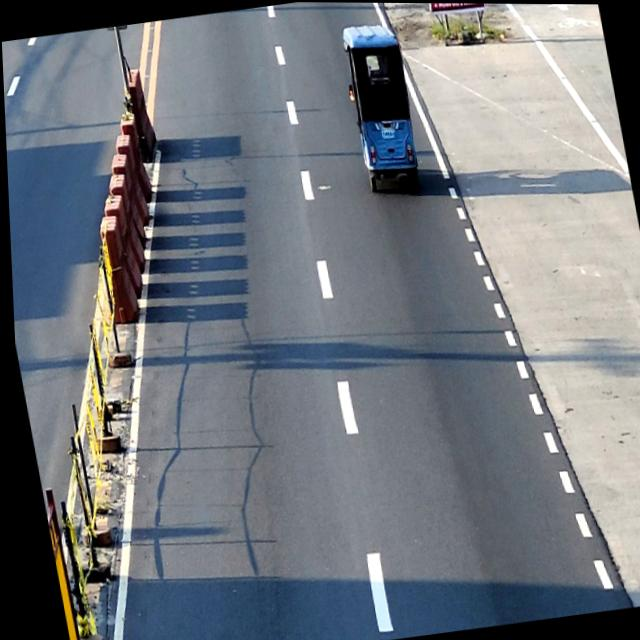E-bike: (336, 18, 426, 199)
